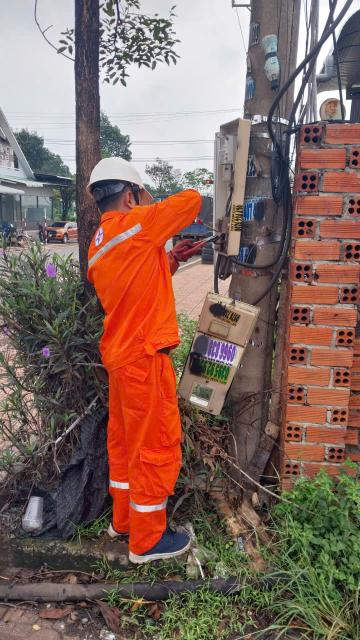helmet: (66, 151, 163, 215)
shoes: (121, 530, 207, 568)
